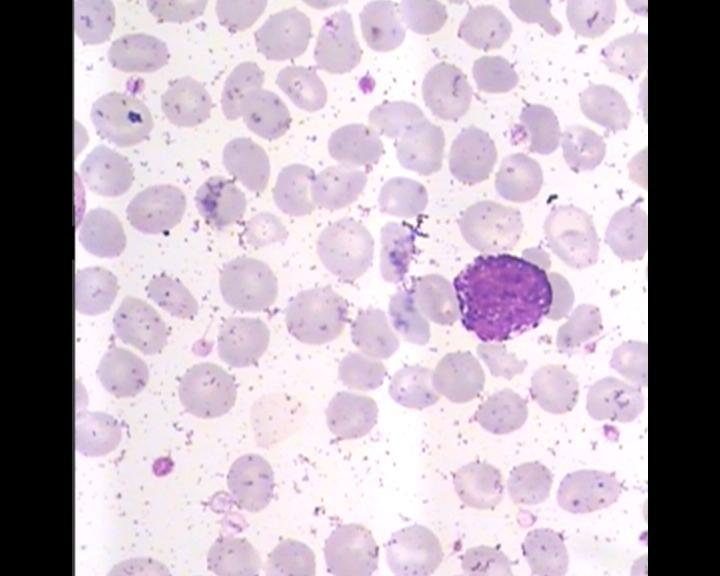baso: (450, 249, 554, 344)
